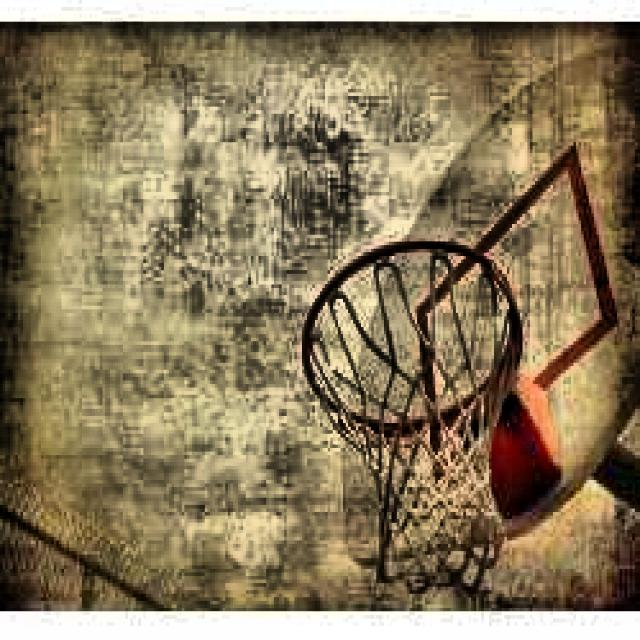rim: (305, 238, 522, 598)
